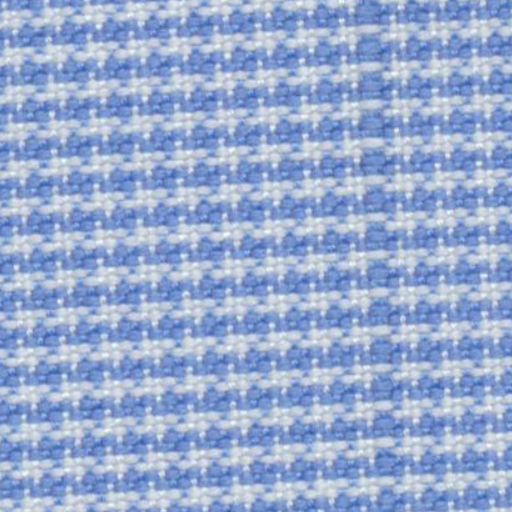TuoSha: (316, 14, 417, 498)
